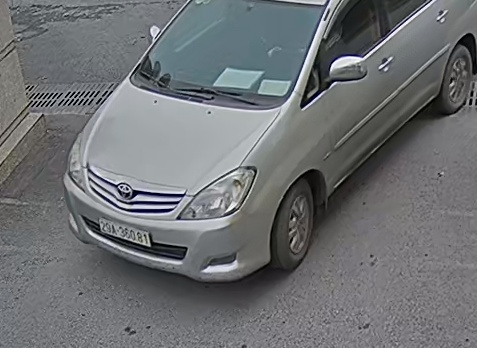vehicle plate: (96, 213, 155, 247)
